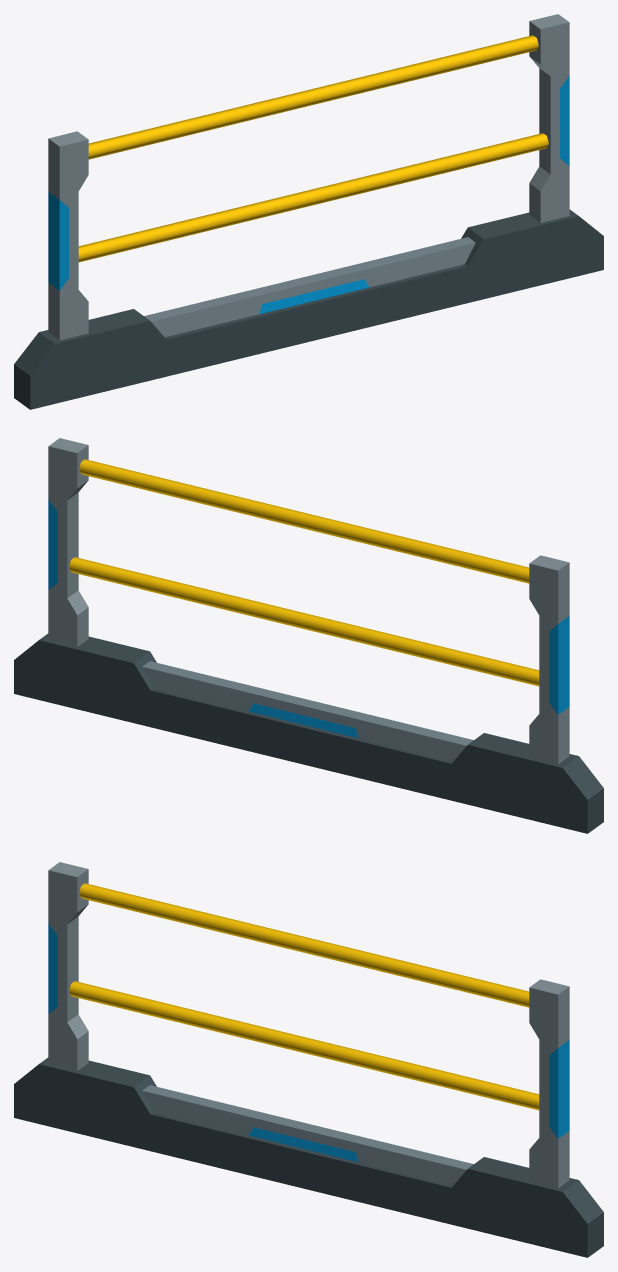
The model's file is Fence_type_C_007.fbx.
3 views of the same model, one above another, from view 1: azimuth 30°, elevation 25°; view 2: azimuth 150°, elevation 25°; view 3: azimuth 330°, elevation 25° (orthographic).
Visible parts, largest first — view 1: Fence_type_C_007; view 2: Fence_type_C_007; view 3: Fence_type_C_007.
Part boxes in pixels (x1,y1,x2,y2): Fence_type_C_007: (14, 14, 603, 409); Fence_type_C_007: (14, 438, 603, 833); Fence_type_C_007: (14, 862, 603, 1257).
Bounding box in the file's own units: 337 × 16.53 × 142.
